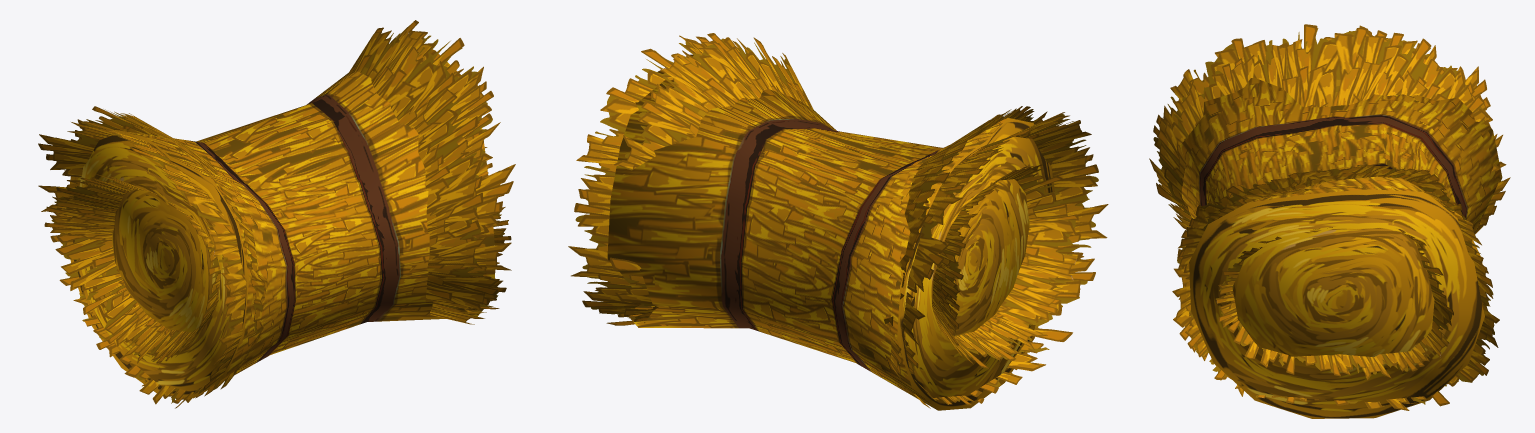
Rendered from SM_PROP_hay_02.FBX.
The picture shows the model from 3 angles, left to right: view 1: azimuth 30°, elevation 25°; view 2: azimuth 150°, elevation 25°; view 3: azimuth 270°, elevation 25°; orthographic projection. The views are drawn at different scales.
Visible parts, largest first — view 1: SM_PROP_hay_02; view 2: SM_PROP_hay_02; view 3: SM_PROP_hay_02.
Boxes of the visible parts, <box> form: SM_PROP_hay_02: <box>38,20,515,408</box>; SM_PROP_hay_02: <box>568,33,1108,410</box>; SM_PROP_hay_02: <box>1149,24,1510,418</box>.
Bounding box in the file's own units: 88.53 × 76.6 × 60.89.
